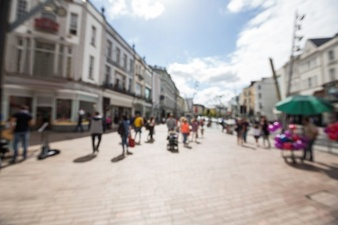pedestrian: (3, 105, 36, 166), (87, 109, 105, 153), (117, 114, 135, 155), (302, 118, 317, 167), (261, 119, 274, 149), (133, 110, 143, 143), (180, 116, 190, 147)
